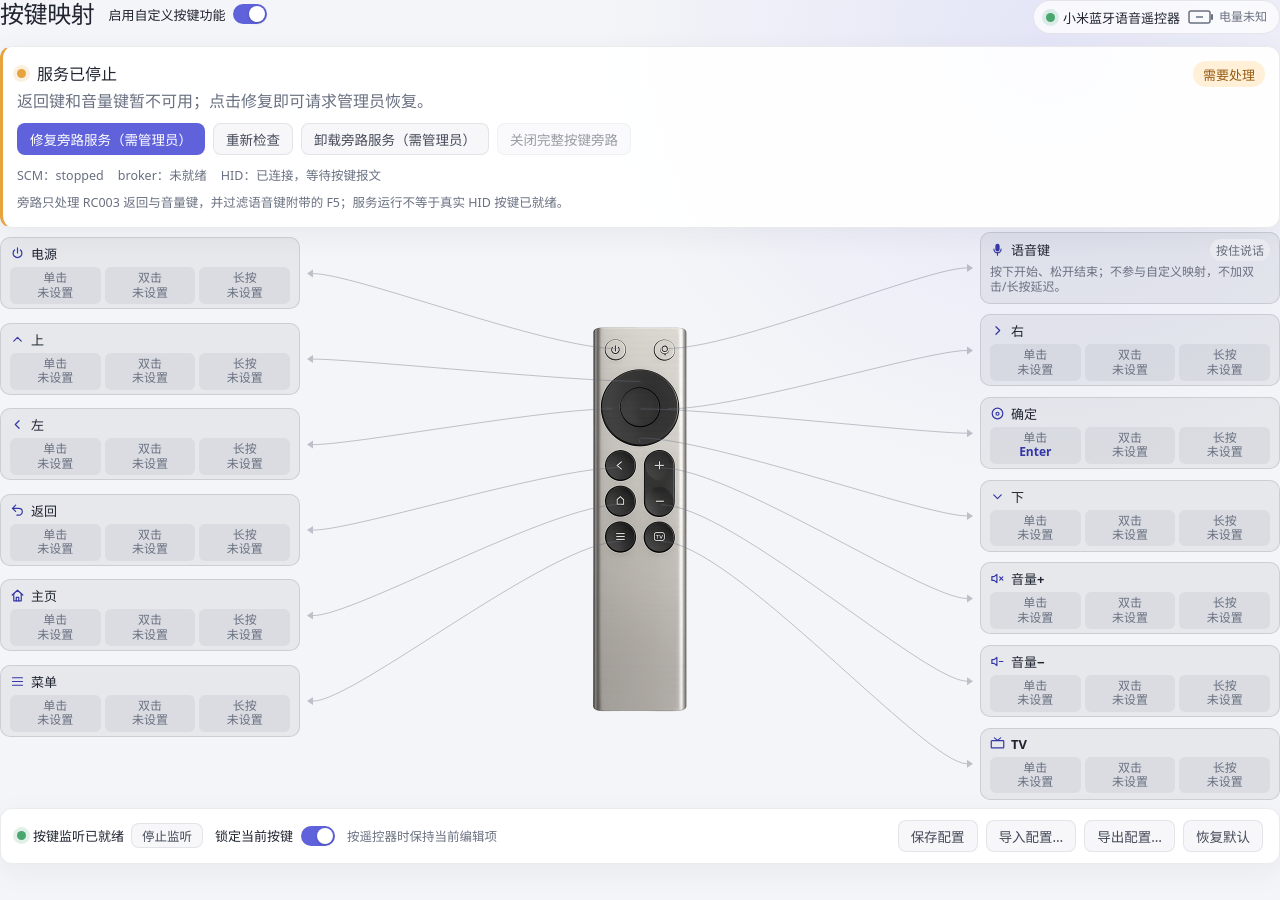
Test case: buttons mapping page › 访问被拒绝显示权限失败，不误报为 UAC 取消
Click the button "修复旁路服务（需管理员）": {"x": 111, "y": 139} top-left (17, 123), bottom-right (205, 155)
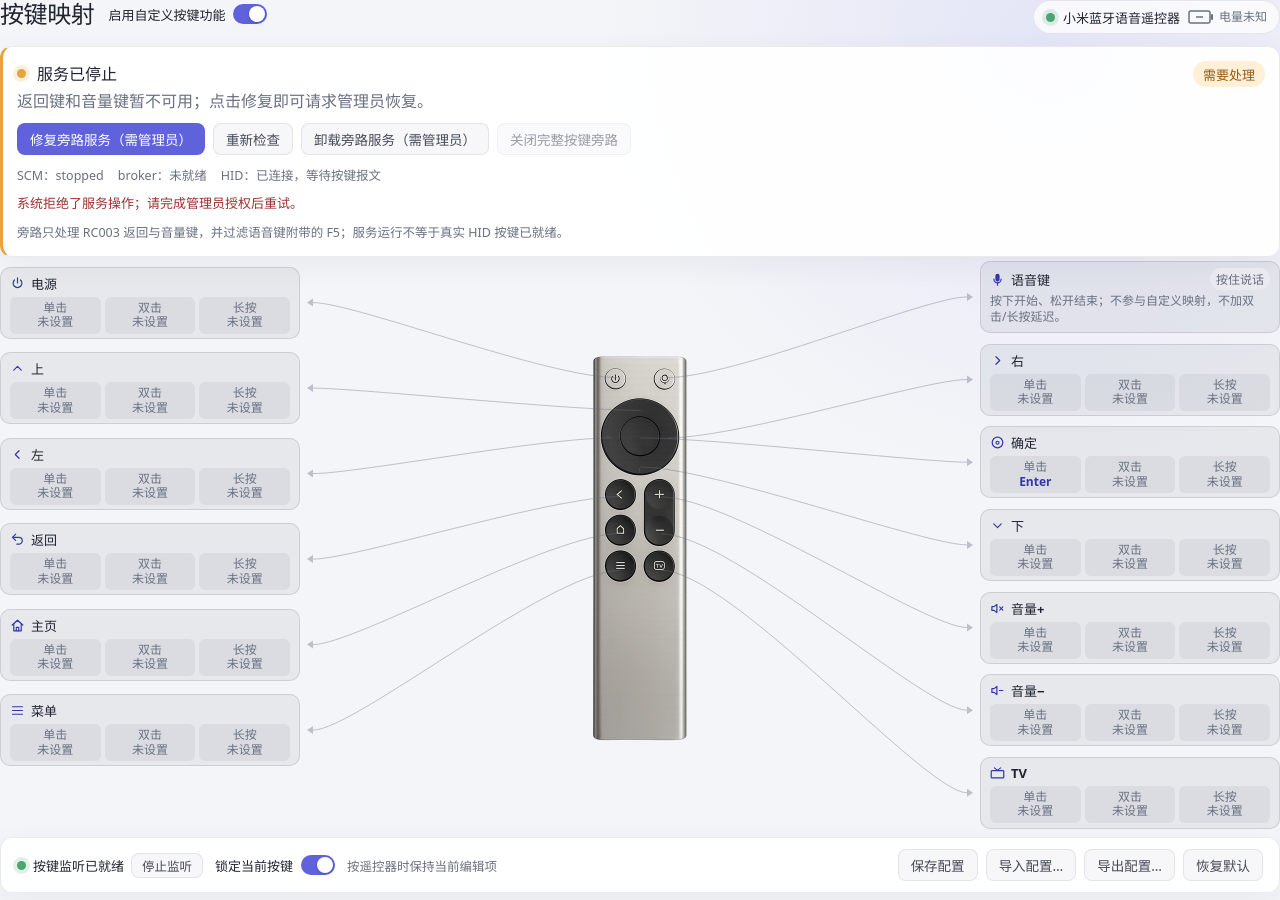
Expected: the element with class "hid-tap-controls" shows "系统拒绝了服务操作", top-left (17, 194), bottom-right (303, 212)
